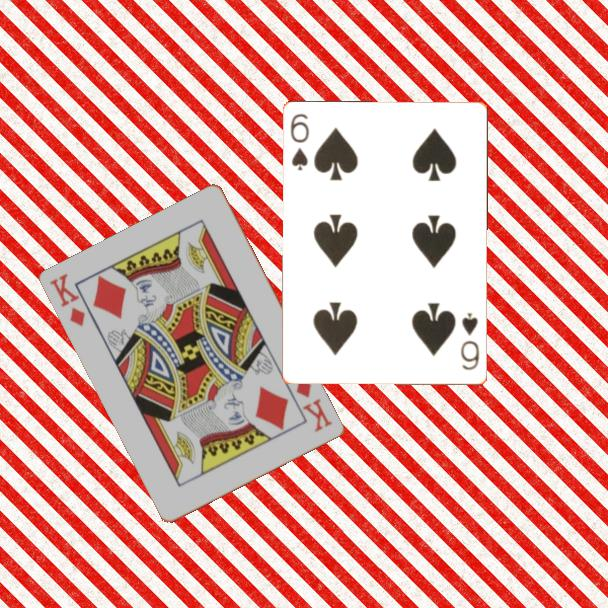d13: (293, 375, 336, 435), (46, 270, 88, 330)
s06: (457, 309, 482, 373), (287, 110, 312, 174)
